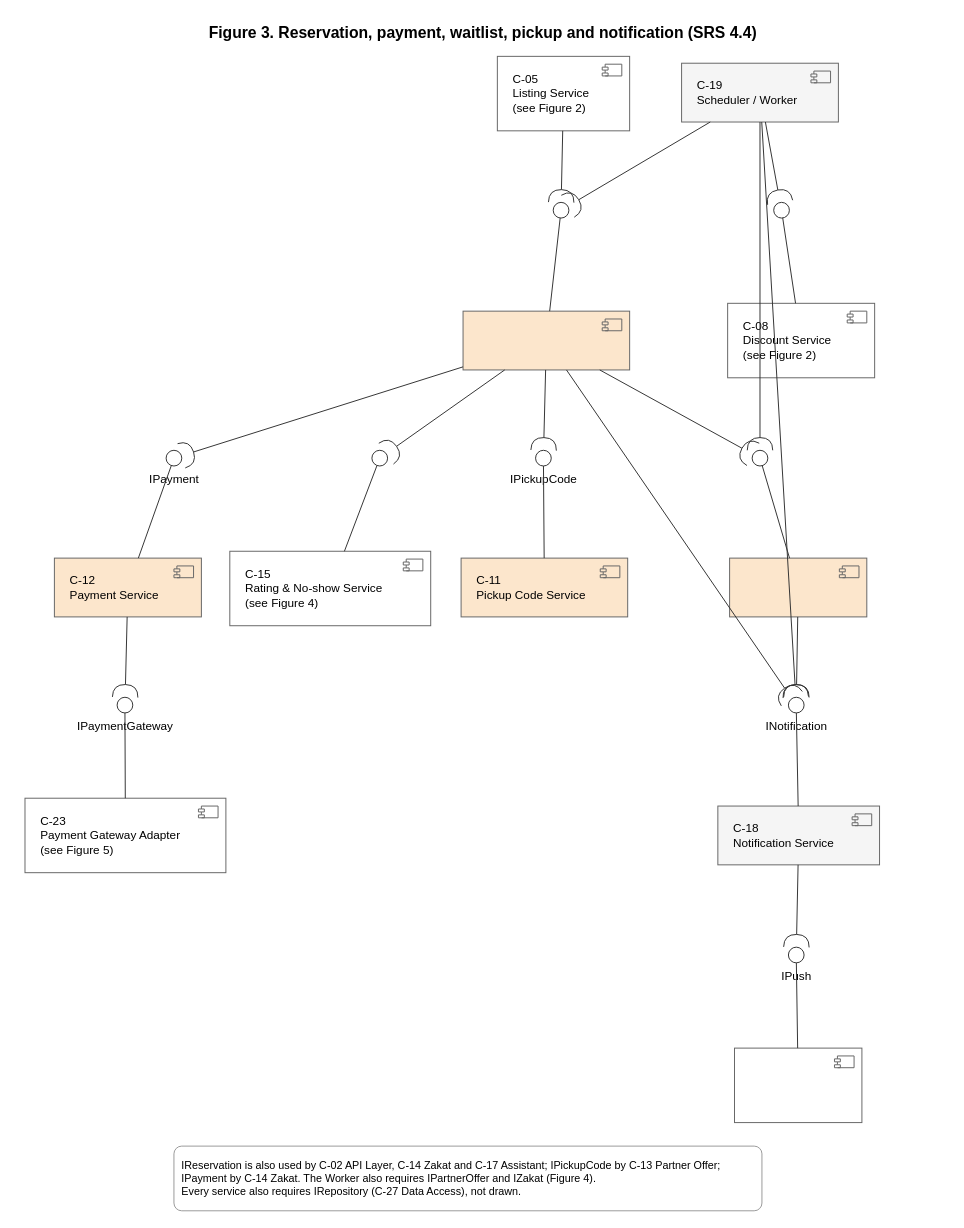
The diagram is 964 pixels wide and 1228 high, and some of its shapes have lost their labels. The box of each missing label's shape, as (x1, y1, x2, y2) in pixels:
C-09 Reservation Service: (462, 310, 630, 370)
C-10 Waitlist Service: (729, 557, 867, 617)
C-25 Push Adapter (see Figure 5): (734, 1047, 862, 1123)
IDiscount: (773, 201, 789, 218)
INoShow: (371, 449, 388, 466)
IReservation: (552, 201, 569, 218)
IWaitlist: (751, 449, 768, 466)
